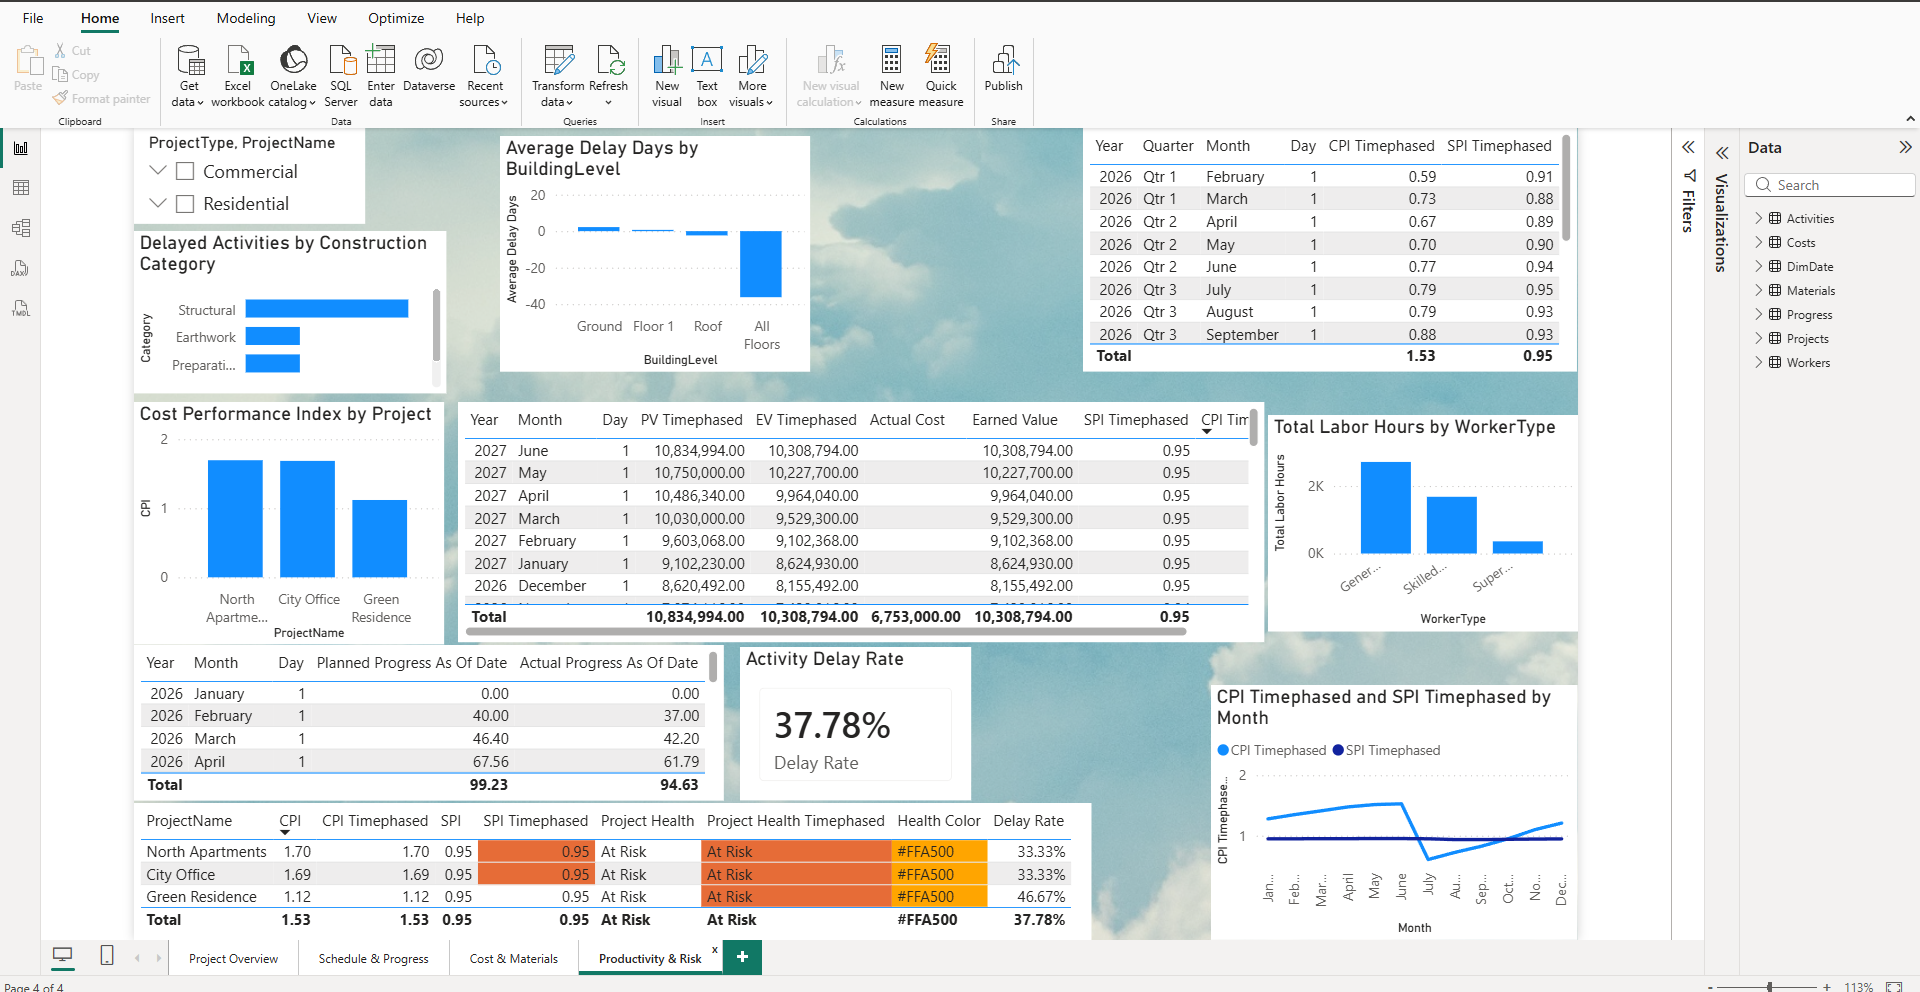

The page's visual inventory and layout, read from the dashboard file:
{"tool":"powerbi","page":{"name":"Productivity & Risk","canvas":[1280,720],"ordinal":3},"visuals":[{"type":"clusteredColumnChart","fields":{"Category":["Workers.WorkerType"],"Y":["Workers.Total Labor Hours"]},"box":[1005.5,254.5,274.5,191.8],"z":0},{"type":"clusteredColumnChart","title":"Cost Performance Index by Project","fields":{"Category":["Projects.ProjectName"],"Y":["Activities.CPI"]},"box":[0,242.7,275.5,215.5],"z":1000},{"type":"tableEx","fields":{"Values":["Projects.ProjectName","Activities.CPI","Activities.CPI Timephased","Activities.SPI","Activities.SPI Timephased","Activities.Project Health","Activities.Project Health Timephased","Activities.Health Color","Activities.Delay Rate"]},"box":[0,598.2,849.1,121.8],"z":2000},{"type":"slicer","fields":{"Values":["Projects.ProjectType","Projects.ProjectName"]},"box":[0,0,205.5,85.5],"z":3000},{"type":"clusteredBarChart","title":"Delayed Activities by Construction Category","fields":{"Category":["Activities.Category"],"Y":["Activities.Delayed Activities"]},"box":[0,90.9,277.3,143.6],"z":5000},{"type":"clusteredColumnChart","fields":{"Category":["Activities.BuildingLevel"],"Y":["Activities.Average Delay Days"]},"box":[324.5,7.3,275.5,209.1],"z":6000},{"type":"cardVisual","title":"Activity Delay Rate","fields":{"Data":["Activities.Delay Rate"]},"box":[537.3,460,205.5,136.4],"z":7000},{"type":"tableEx","fields":{"Values":["DimDate.Date.Variation.Date Hierarchy.Year","DimDate.Date.Variation.Date Hierarchy.Month","DimDate.Date.Variation.Date Hierarchy.Day","Activities.Planned Progress As Of Date","Activities.Actual Progress As Of Date"]},"box":[0,458.2,522.7,138.2],"z":8000},{"type":"tableEx","fields":{"Values":["DimDate.Date.Variation.Date Hierarchy.Year","DimDate.Date.Variation.Date Hierarchy.Month","DimDate.Date.Variation.Date Hierarchy.Day","Activities.PV Timephased","Activities.EV Timephased","Activities.Actual Cost","Activities.Earned Value","Activities.SPI Timephased","Activities.CPI Timephased"]},"box":[287.3,242.7,715.5,212.7],"z":9000},{"type":"tableEx","fields":{"Values":["DimDate.Date.Variation.Date Hierarchy.Year","DimDate.Date.Variation.Date Hierarchy.Quarter","DimDate.Date.Variation.Date Hierarchy.Month","DimDate.Date.Variation.Date Hierarchy.Day","Activities.CPI Timephased","Activities.SPI Timephased"]},"box":[841.8,0,438.2,216.4],"z":10000},{"type":"lineChart","fields":{"Category":["DimDate.Date.Variation.Date Hierarchy.Year","DimDate.Date.Variation.Date Hierarchy.Month","DimDate.Date.Variation.Date Hierarchy.Day"],"Y":["Activities.CPI Timephased","Activities.SPI Timephased"]},"box":[954.5,493.6,325.5,226.4],"z":11000}]}

Visuals, with their boxes on the page's 1280x720 design canvas (x1, y1, x2, y2). These are canvas units, not pixel positions in the 1920x992 screenshot, which may show the page scaled, cropped or inside an application window:
clusteredColumnChart - Workers.WorkerType x Workers.Total Labor Hours: crop(1006, 254, 1280, 446)
"Cost Performance Index by Project" clusteredColumnChart: crop(0, 243, 276, 458)
tableEx - Projects.ProjectName x Activities.CPI: crop(0, 598, 849, 720)
slicer - Projects.ProjectType x Projects.ProjectName: crop(0, 0, 206, 86)
"Delayed Activities by Construction Category" clusteredBarChart: crop(0, 91, 277, 234)
clusteredColumnChart - Activities.BuildingLevel x Activities.Average Delay Days: crop(324, 7, 600, 216)
"Activity Delay Rate" cardVisual: crop(537, 460, 743, 596)
tableEx - DimDate.Date.Variation.Date Hierarchy.Year x DimDate.Date.Variation.Date Hierarchy.Month: crop(0, 458, 523, 596)
tableEx - DimDate.Date.Variation.Date Hierarchy.Year x DimDate.Date.Variation.Date Hierarchy.Month: crop(287, 243, 1003, 455)
tableEx - DimDate.Date.Variation.Date Hierarchy.Year x DimDate.Date.Variation.Date Hierarchy.Quarter: crop(842, 0, 1280, 216)
lineChart - DimDate.Date.Variation.Date Hierarchy.Year x DimDate.Date.Variation.Date Hierarchy.Month: crop(954, 494, 1280, 720)
